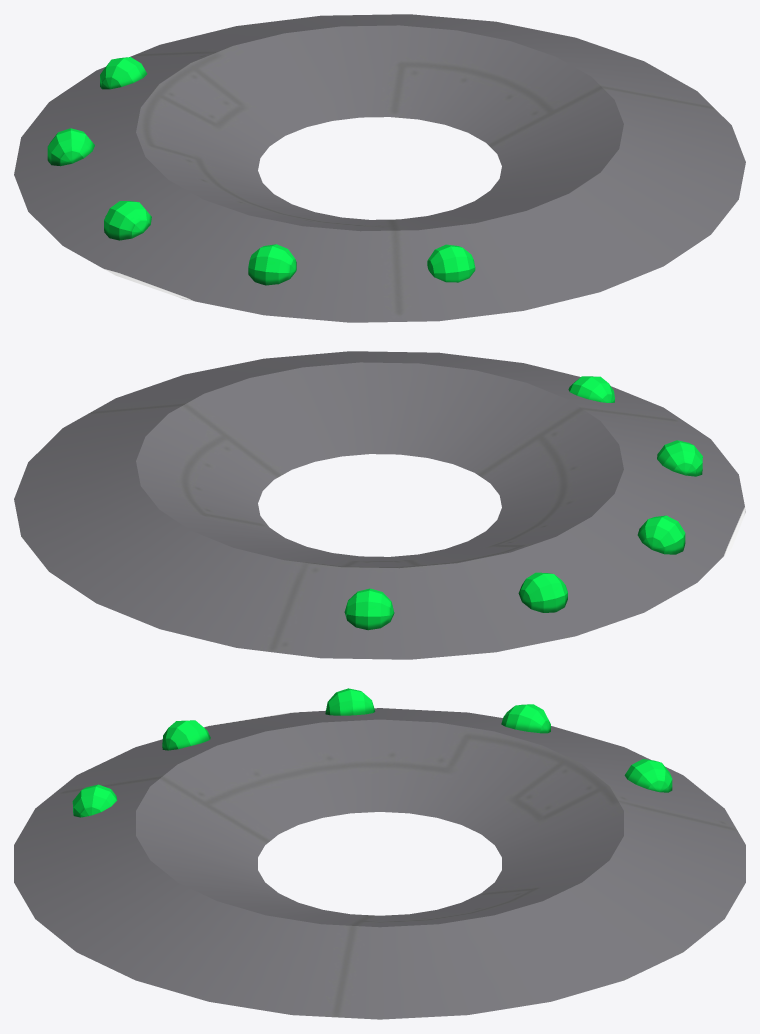
Rendered from ufo_discTEST.fbx.
The picture shows the model from 3 angles, top to bottom: view 1: azimuth 30°, elevation 25°; view 2: azimuth 150°, elevation 25°; view 3: azimuth 270°, elevation 25°; orthographic projection.
Parts seen in each view (by area): view 1: pSphere9; view 2: pSphere9; view 3: pSphere9.
Boxes of the visible parts, bbox=[...] form: pSphere9: bbox=[14, 14, 745, 322]; pSphere9: bbox=[14, 351, 745, 659]; pSphere9: bbox=[14, 688, 745, 1019].
Size of the model in its own units: 13.21 by 1.65 by 13.12.
Materials: 1 (1 with a texture image).
